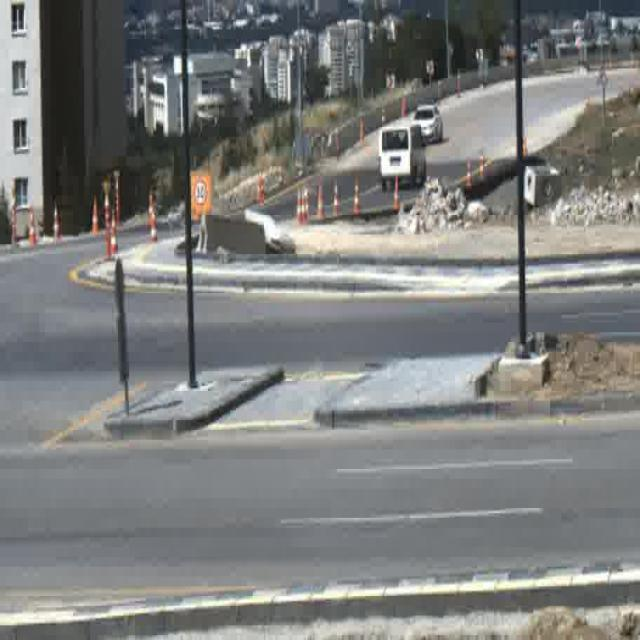Car: (379, 123, 426, 185), (414, 106, 444, 143)
